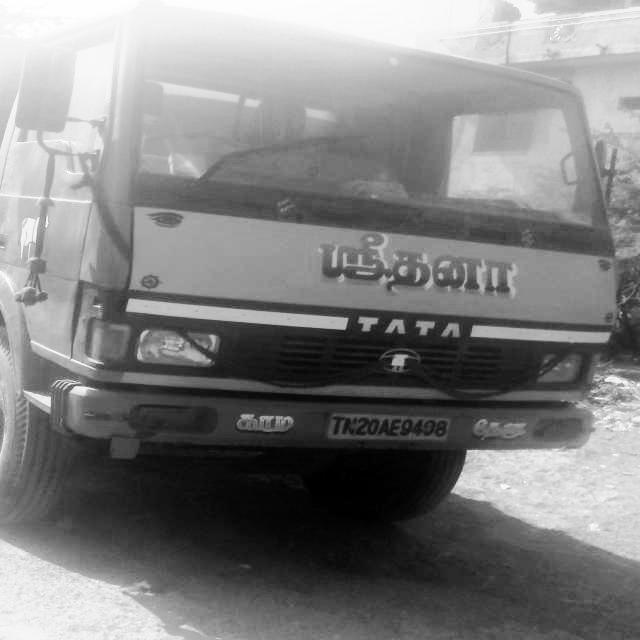HCV: (20, 15, 640, 545)
